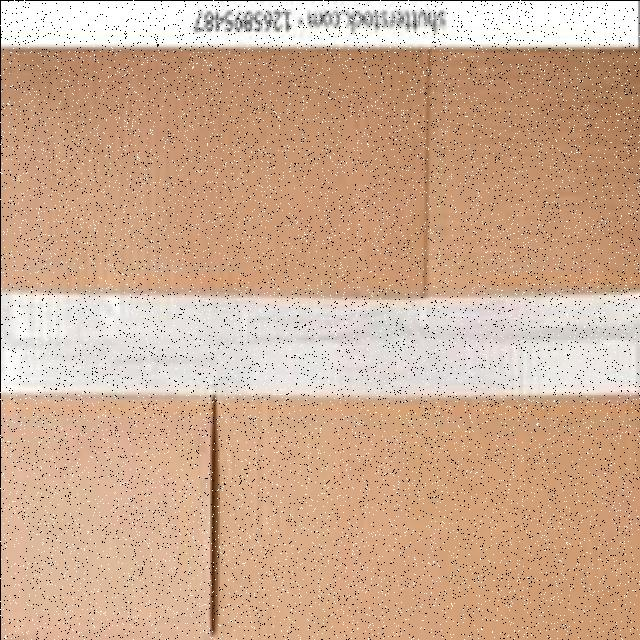normal: (0, 54, 637, 638)
